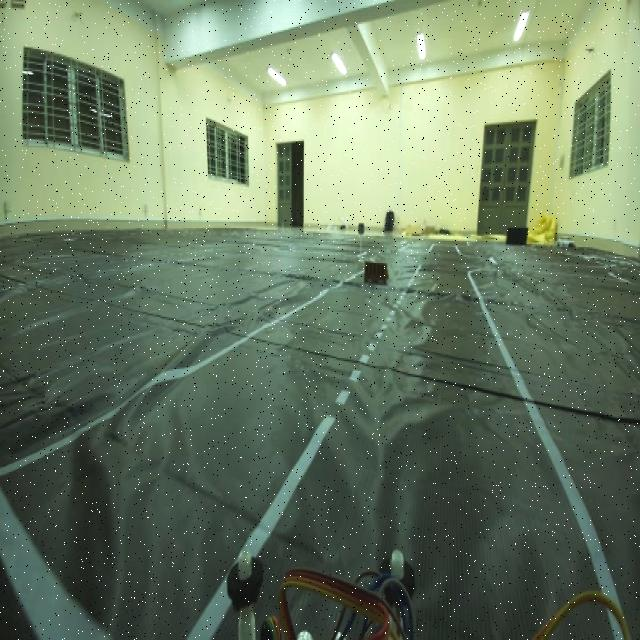roadblock: (361, 257, 393, 294)
